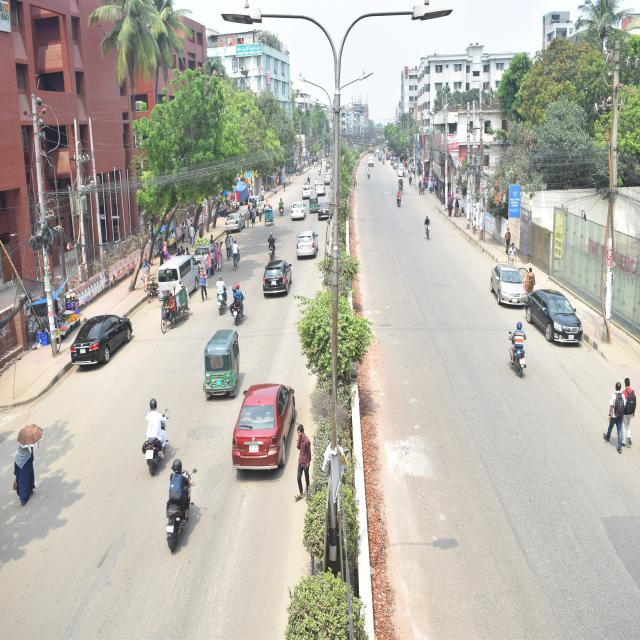car: (228, 363, 301, 489), (67, 297, 130, 370), (525, 278, 587, 346), (486, 258, 529, 312), (255, 258, 291, 300), (192, 237, 218, 274), (221, 207, 248, 237), (296, 227, 318, 260), (245, 187, 269, 215), (287, 195, 307, 228), (316, 196, 334, 223), (312, 178, 326, 199), (300, 180, 312, 198)
motorbike: (164, 462, 197, 556), (141, 406, 169, 478), (507, 333, 533, 375), (231, 283, 250, 331), (214, 278, 226, 319), (420, 216, 434, 244), (266, 226, 279, 256), (366, 170, 375, 185), (278, 201, 284, 219), (397, 190, 402, 206)
pickup-van: (147, 253, 205, 309)
